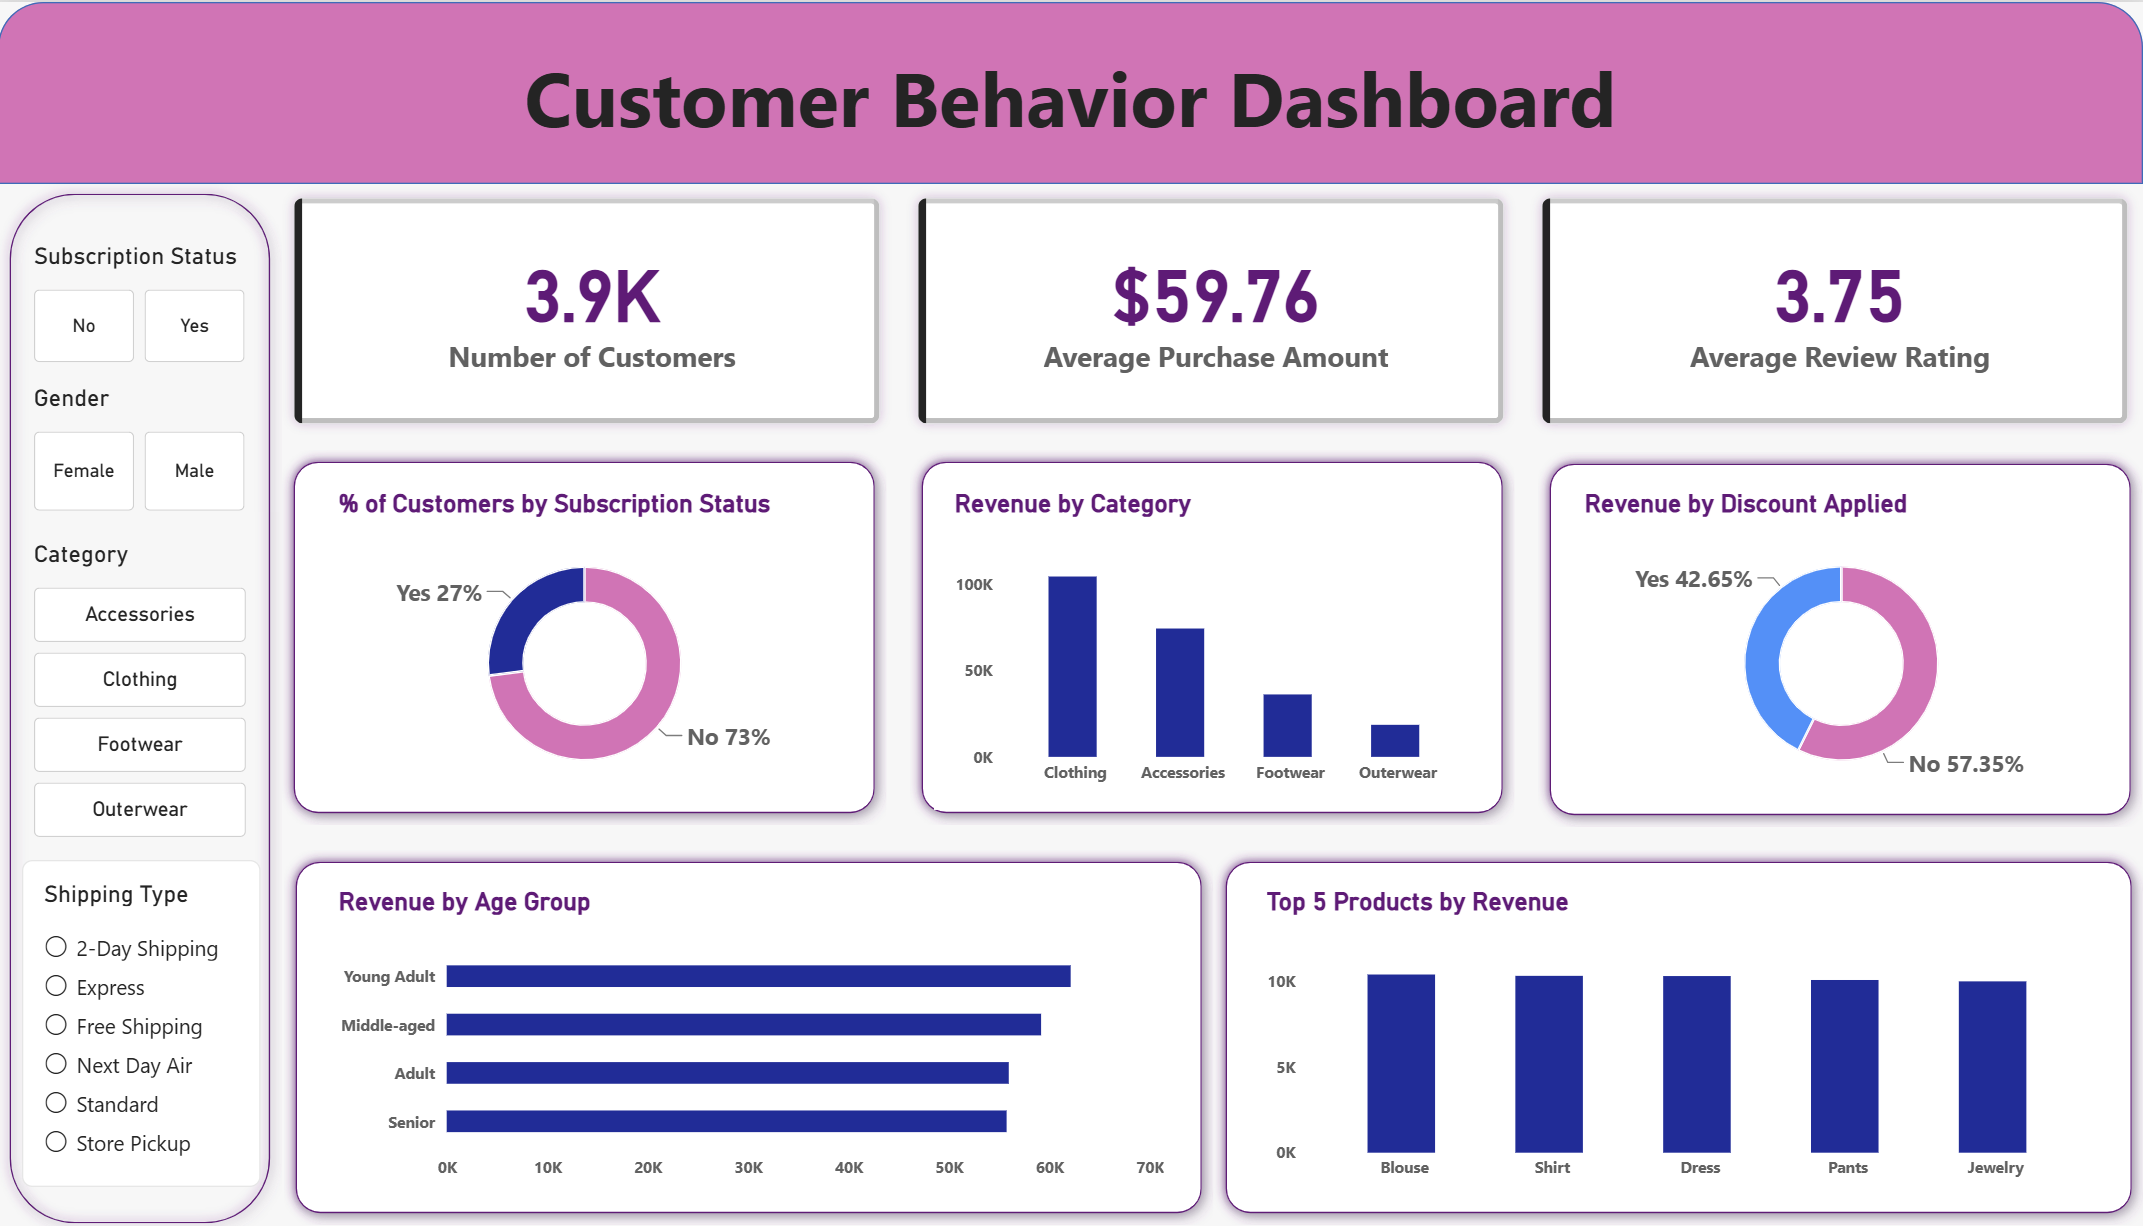

The page's visual inventory and layout, read from the dashboard file:
{"tool":"powerbi","page":{"name":"Page 1","canvas":[1650,950],"ordinal":0},"visuals":[{"type":"cardVisual","fields":{"Data":["customer_behaviour customer.Number of Customers","customer_behaviour customer.Average Purchase Amount","customer_behaviour customer.Average Review Rating"]},"box":[216.7,140,1433.3,195],"z":0},{"type":"shape","box":[0,0,1650,140],"z":1000},{"type":"textbox","box":[0,31.7,1650,91.7],"z":2000},{"type":"shape","box":[218.3,344.5,465,288.3],"z":3000},{"type":"donutChart","title":"% of Customers by Subscription Status","fields":{"Category":["customer_behaviour customer.subscription_status"],"Y":["CountNonNull(customer_behaviour customer.customer_id)"]},"box":[246.7,360,410,261.7],"z":4000},{"type":"shape","box":[701.7,344.5,465,288.3],"z":5000},{"type":"shape","box":[1185,346.1,465,288.3],"z":6000},{"type":"clusteredColumnChart","title":"Revenue by Category","fields":{"Y":["Sum(customer_behaviour customer.purchase_amount)"],"Category":["customer_behaviour customer.category"]},"box":[720,360,426.7,261.7],"z":7000},{"type":"pieChart","title":"Revenue by Discount Applied","fields":{"Category":["customer_behaviour customer.discount_applied"],"Y":["Sum(customer_behaviour customer.purchase_amount)"]},"box":[1205,360,426.7,261.7],"z":8000},{"type":"shape","box":[0,138.3,218.3,810],"z":9000},{"type":"advancedSlicerVisual","fields":{"Values":["customer_behaviour customer.subscription_status"]},"box":[28.3,185,163.3,93.3],"z":10000},{"type":"advancedSlicerVisual","fields":{"Values":["customer_behaviour customer.gender"]},"box":[28.3,293.3,163.3,98.3],"z":11000},{"type":"advancedSlicerVisual","fields":{"Values":["customer_behaviour customer.category"]},"box":[28.3,413.3,163.3,231.7],"z":12000},{"type":"listSlicer","fields":{"Values":["customer_behaviour customer.shipping_type"]},"box":[18.3,660,183.3,251.7],"z":13000},{"type":"shape","box":[220,651.7,715,288.3],"z":14000},{"type":"clusteredBarChart","title":"Revenue by Age Group","fields":{"Category":["customer_behaviour customer.age_group"],"Y":["Sum(customer_behaviour customer.purchase_amount)"]},"box":[246.7,666.7,666.7,260],"z":15000},{"type":"shape","box":[935,651.7,715,288.3],"z":16000},{"type":"clusteredColumnChart","title":"Top 5 Products by Revenue","fields":{"Category":["customer_behaviour customer.item_purchased"],"Y":["Sum(customer_behaviour customer.purchase_amount)"]},"box":[960,666.7,666.7,260],"z":17000}]}

Visuals, with their boxes in screenshot pixels (x1, y1, x2, y2), scaled from the page's 1650x950 canvas onto the 2143x1226 screenshot:
cardVisual - customer_behaviour customer.Number of Customers x customer_behaviour customer.Average Purchase Amount: bbox=[281, 181, 2142, 432]
shape: bbox=[0, 0, 2142, 181]
textbox: bbox=[0, 41, 2142, 159]
shape: bbox=[284, 445, 887, 817]
"% of Customers by Subscription Status" donutChart: bbox=[320, 465, 853, 802]
shape: bbox=[911, 445, 1515, 817]
shape: bbox=[1539, 447, 2142, 819]
"Revenue by Category" clusteredColumnChart: bbox=[935, 465, 1489, 802]
"Revenue by Discount Applied" pieChart: bbox=[1565, 465, 2119, 802]
shape: bbox=[0, 178, 284, 1224]
advancedSlicerVisual - customer_behaviour customer.subscription_status: bbox=[37, 239, 249, 359]
advancedSlicerVisual - customer_behaviour customer.gender: bbox=[37, 379, 249, 505]
advancedSlicerVisual - customer_behaviour customer.category: bbox=[37, 533, 249, 832]
listSlicer - customer_behaviour customer.shipping_type: bbox=[24, 852, 262, 1177]
shape: bbox=[286, 841, 1214, 1213]
"Revenue by Age Group" clusteredBarChart: bbox=[320, 860, 1186, 1196]
shape: bbox=[1214, 841, 2142, 1213]
"Top 5 Products by Revenue" clusteredColumnChart: bbox=[1247, 860, 2113, 1196]
